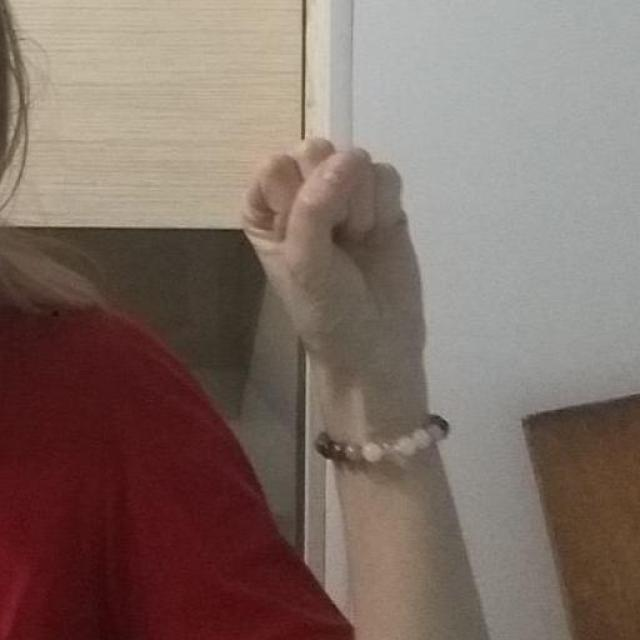hand: (239, 134, 445, 470)
